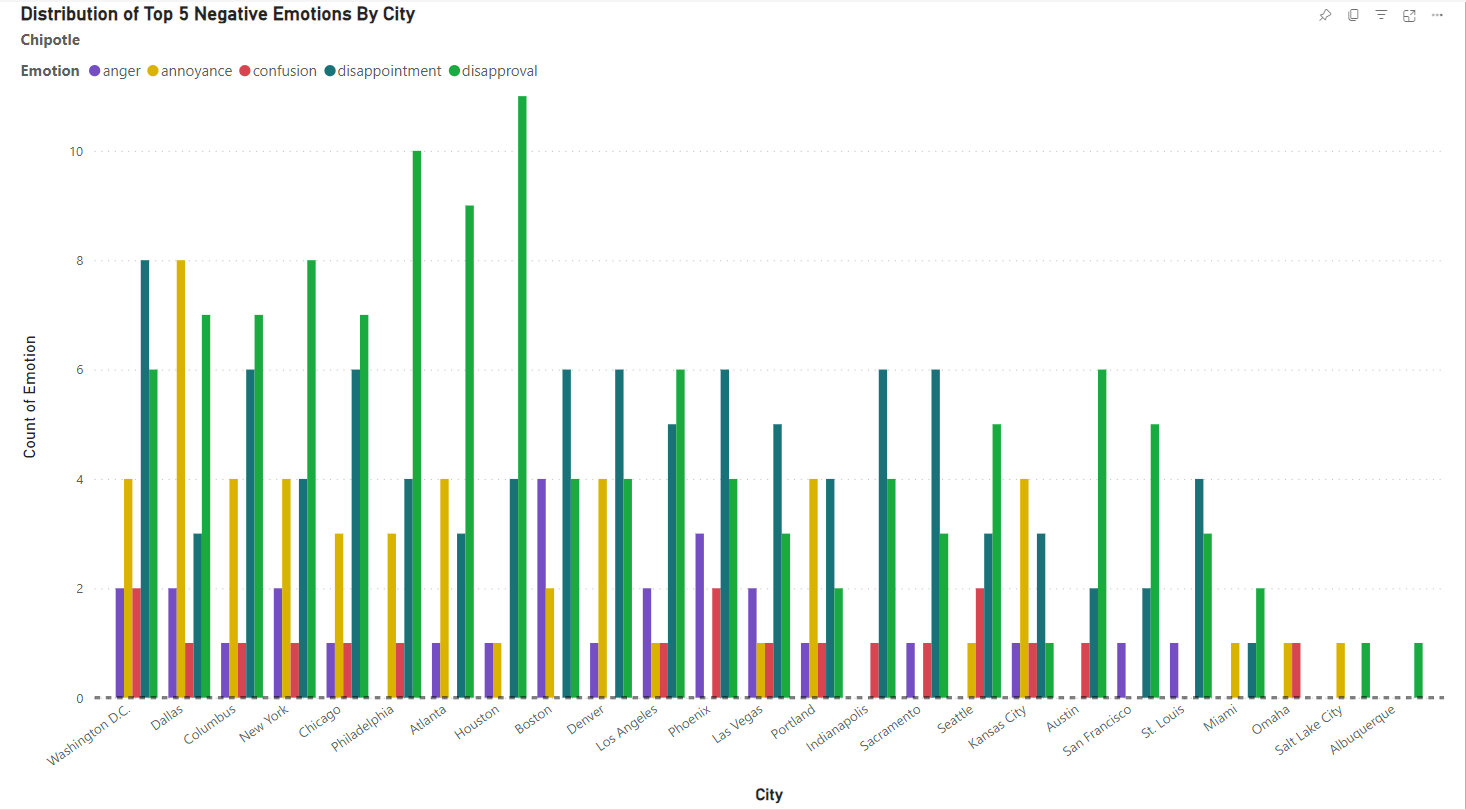

This screenshot's page, from the dashboard's own definition file:
{"tool":"powerbi","page":{"name":"Top 5 Negative Emotions By City","canvas":[1280,720],"ordinal":2},"visuals":[{"type":"clusteredColumnChart","title":"Distribution of Top 5 Negative Emotions By City","fields":{"Category":["Sentiment_Analysis.Store_City"],"Series":["Sentiment_Analysis.Emotion"],"Y":["CountNonNull(Sentiment_Analysis.Emotion)"]},"box":[0,0,1280,720],"z":0}]}

Visuals, with their boxes on the page's 1280x720 design canvas (x1, y1, x2, y2). These are canvas units, not pixel positions in the 1466x810 screenshot, which may show the page scaled, cropped or inside an application window:
"Distribution of Top 5 Negative Emotions By City" clusteredColumnChart: [0,0,1280,720]
